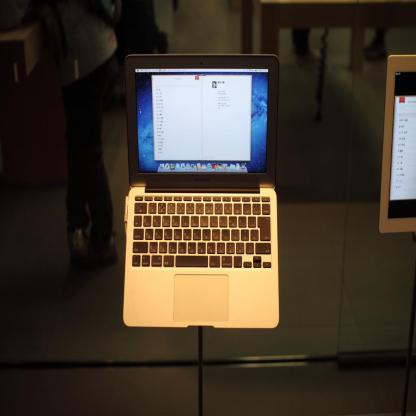board: (114, 59, 287, 324)
